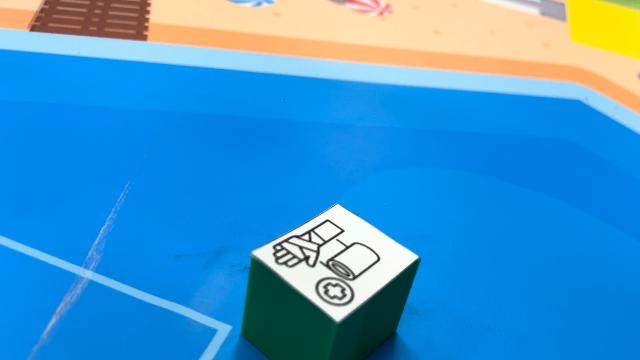bandage: (240, 203, 420, 359)
